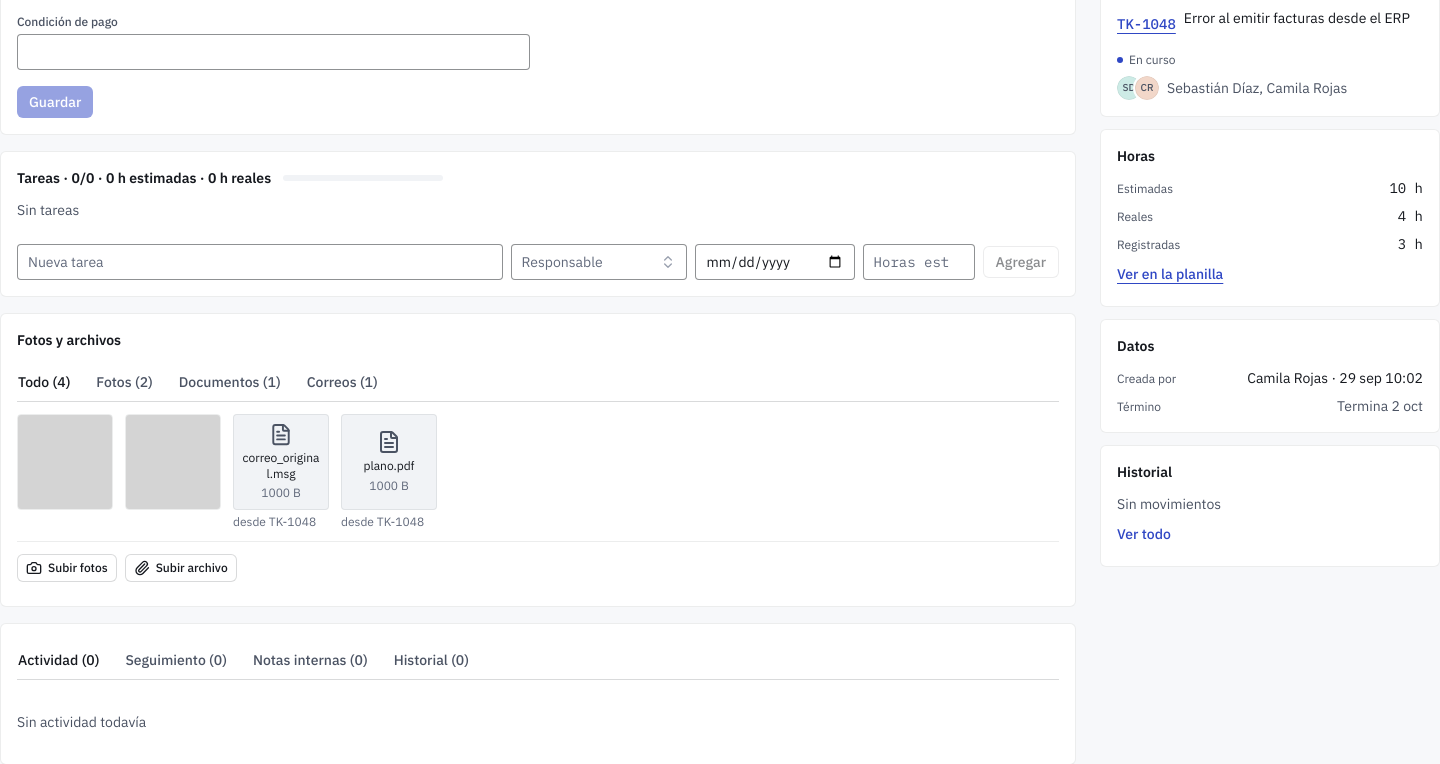
Test case: la galería agrupa por pestaña y suma los archivos del ticket de origen
(page scrolled)
Expected: the text "desde TK-1048" is shown 2 times, [233,514,329,529]; [341,514,437,529]
Click the tab "Fotos (2)" at (124, 382), box [95,360,154,404]
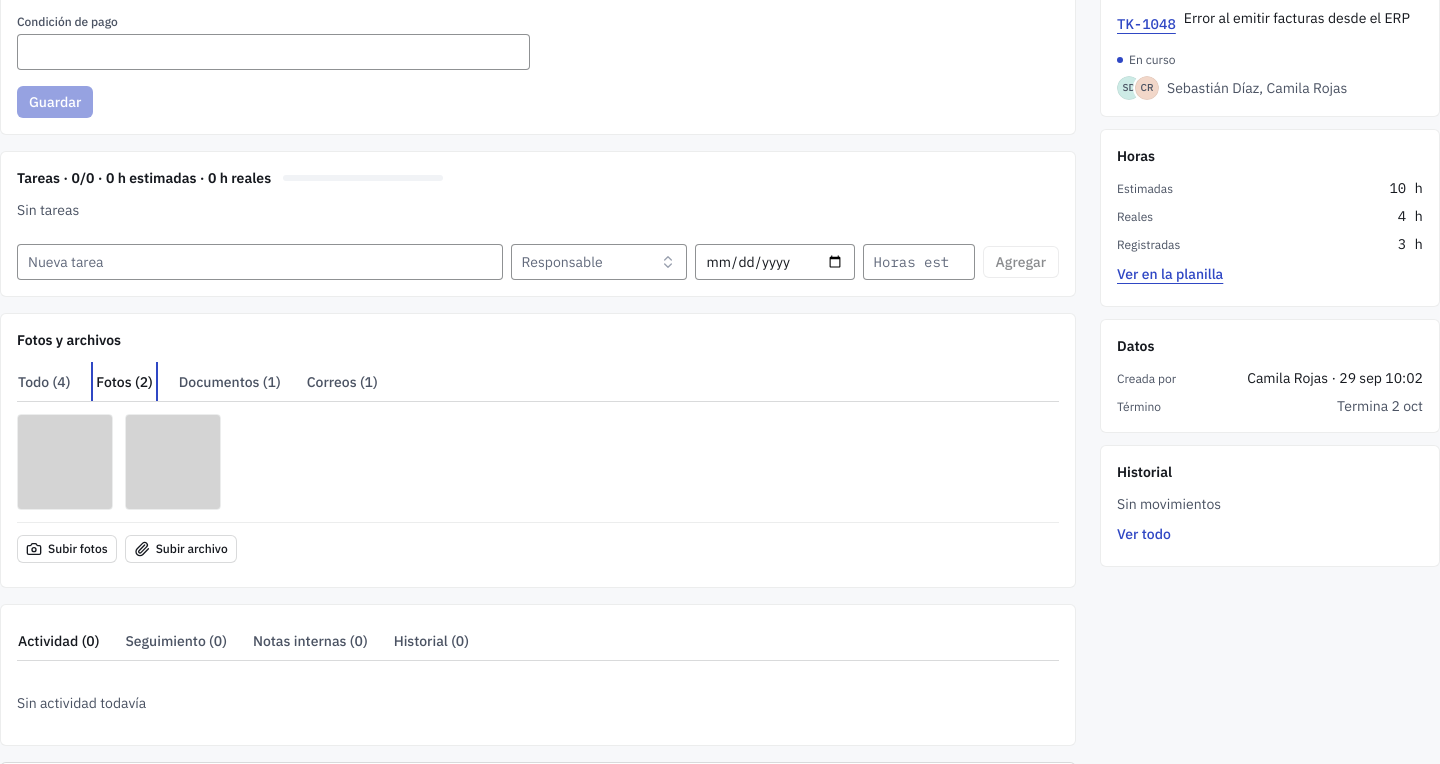
Click the tab "Correos (1)" at (342, 382), box [306,360,379,404]
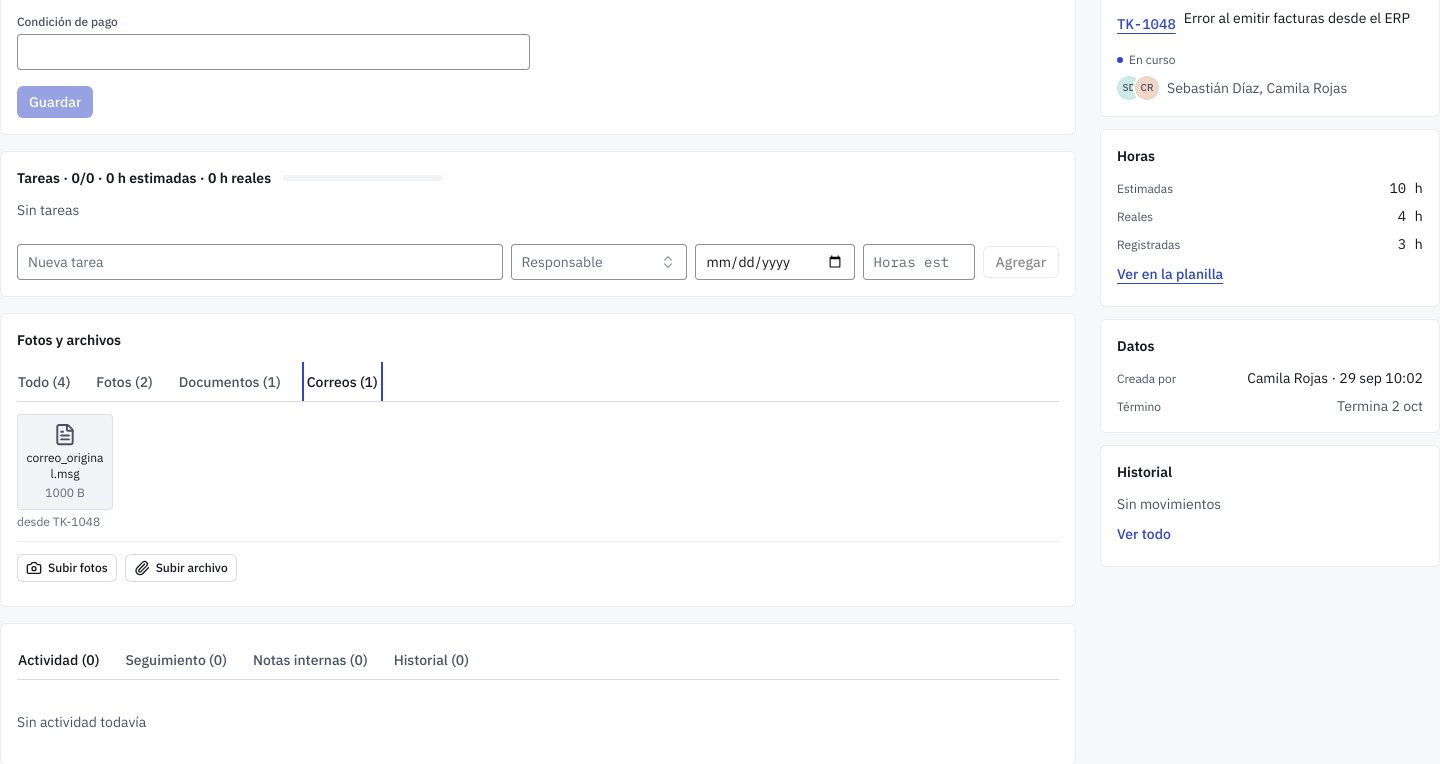
Expected: the link "plano.pdf" is not shown
Now the text "correo_original.msg" is shown, box [26,450,104,481]
